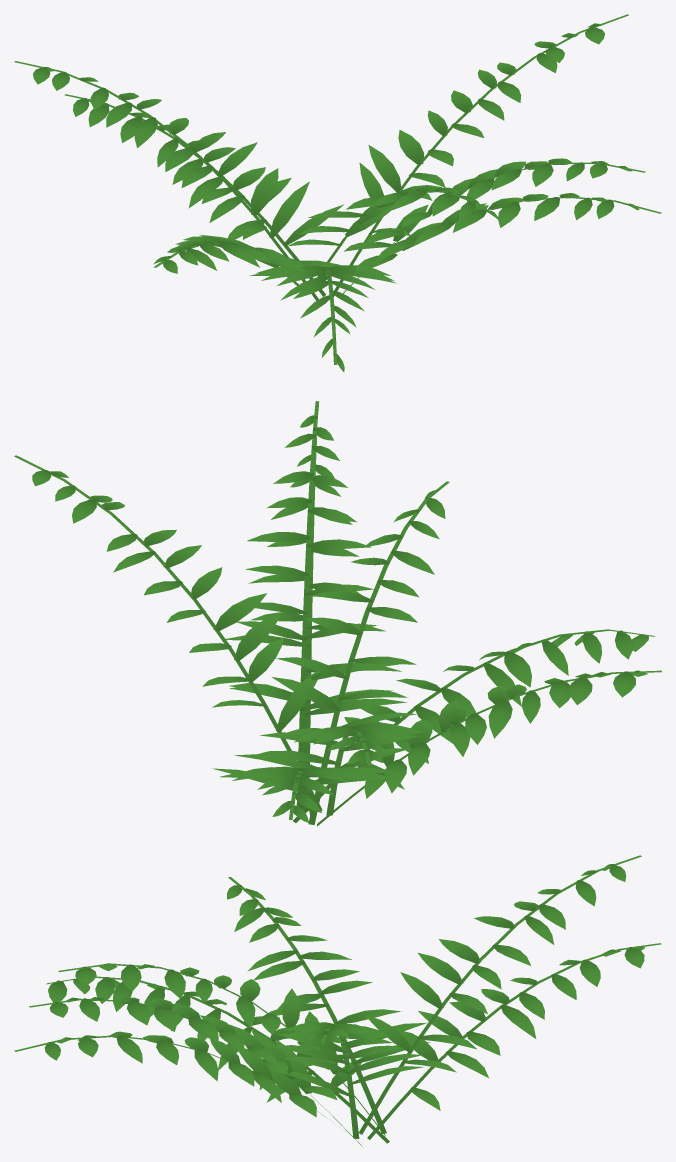
Rendered from fern1_s23788.gltf.
3 views of the same model, one above another, from view 1: azimuth 30°, elevation 25°; view 2: azimuth 150°, elevation 25°; view 3: azimuth 270°, elevation 25° (orthographic). The views are drawn at different scales.
Visible parts, largest first — view 1: fern1_s23788_leaf_LOD0, fern1_s23788_stalk_LOD0; view 2: fern1_s23788_leaf_LOD0, fern1_s23788_stalk_LOD0; view 3: fern1_s23788_leaf_LOD0, fern1_s23788_stalk_LOD0.
Boxes of the visible parts, x1,y1,x2,y2 form: fern1_s23788_leaf_LOD0: (33, 23, 639, 372); fern1_s23788_stalk_LOD0: (14, 14, 661, 364); fern1_s23788_leaf_LOD0: (32, 415, 648, 822); fern1_s23788_stalk_LOD0: (14, 401, 661, 826); fern1_s23788_leaf_LOD0: (44, 864, 644, 1117); fern1_s23788_stalk_LOD0: (14, 855, 661, 1146).
Size of what is drawn, in the model's own units: 1.44 by 0.6051 by 1.49.
